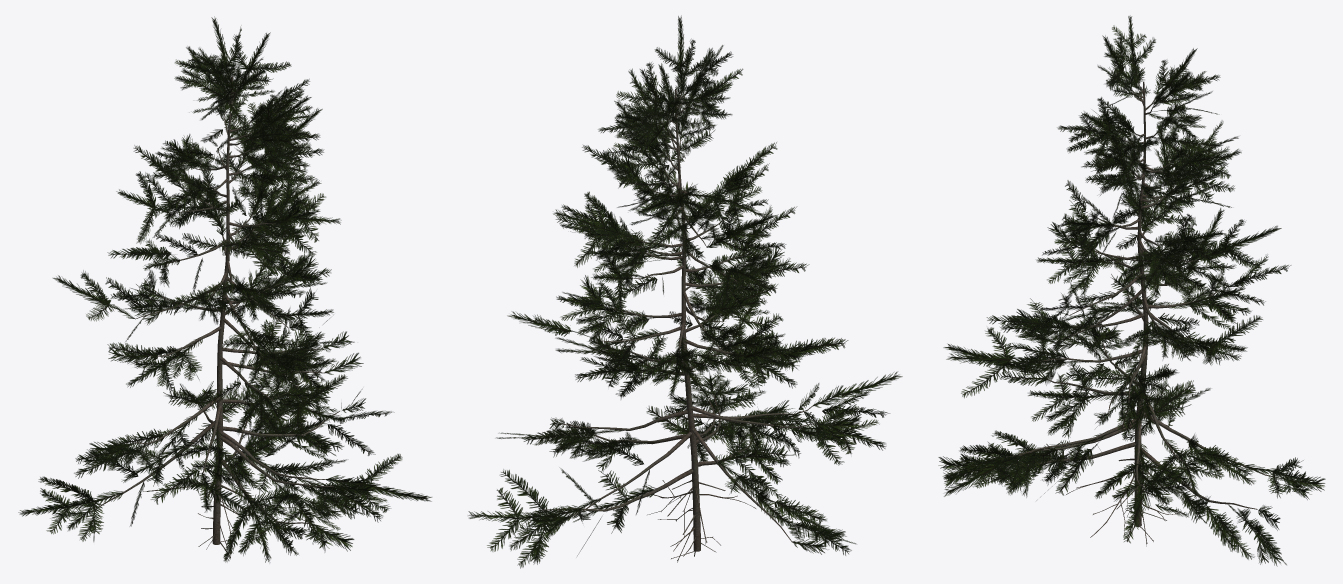
File: fir_sapling_medium_c_1k.glb
3 views of the same model, side by side, from view 1: azimuth 30°, elevation 25°; view 2: azimuth 150°, elevation 25°; view 3: azimuth 270°, elevation 25° (orthographic).
Parts seen in each view (by area): view 1: fir_sapling_medium_c_LOD1; view 2: fir_sapling_medium_c_LOD1; view 3: fir_sapling_medium_c_LOD1.
Boxes of the visible parts, box(x1,y1,x2,y2) form: fir_sapling_medium_c_LOD1: box(18, 16, 431, 562); fir_sapling_medium_c_LOD1: box(468, 15, 902, 568); fir_sapling_medium_c_LOD1: box(938, 15, 1325, 566).
Size of the model in its own units: 4.32 by 5.94 by 4.05.
3 materials, 3 textured.
